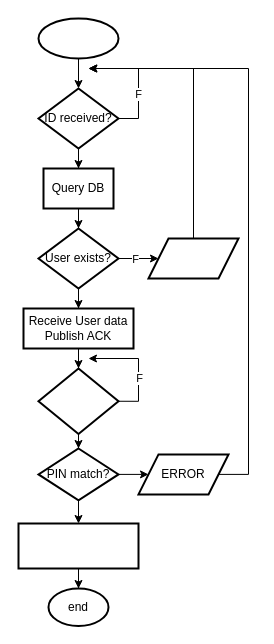
The diagram is 274 pixels wide and 644 high, and some of its shapes have lost their labels. The centre of each missing label's shape, as x and y in pixels:
"Authenticates user Publish Auth status" belongs at [78,545].
"C programm" belongs at [78,38].
"Pin received?" belongs at [78,400].
"User not found" belongs at [193,258].
